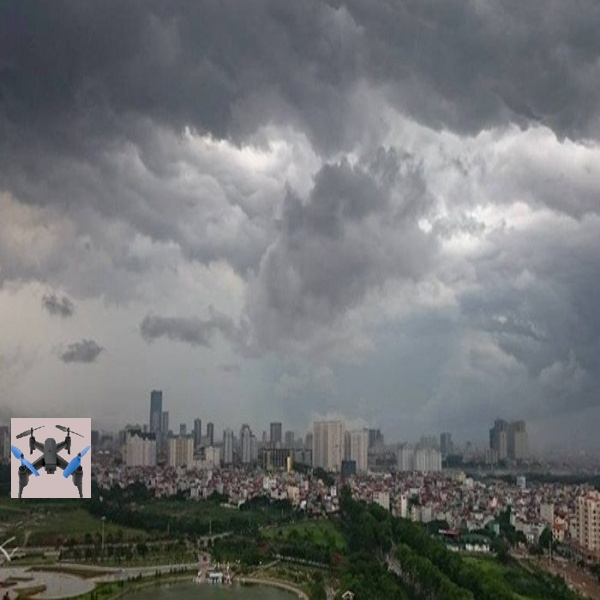drone: (10, 417, 90, 500)
